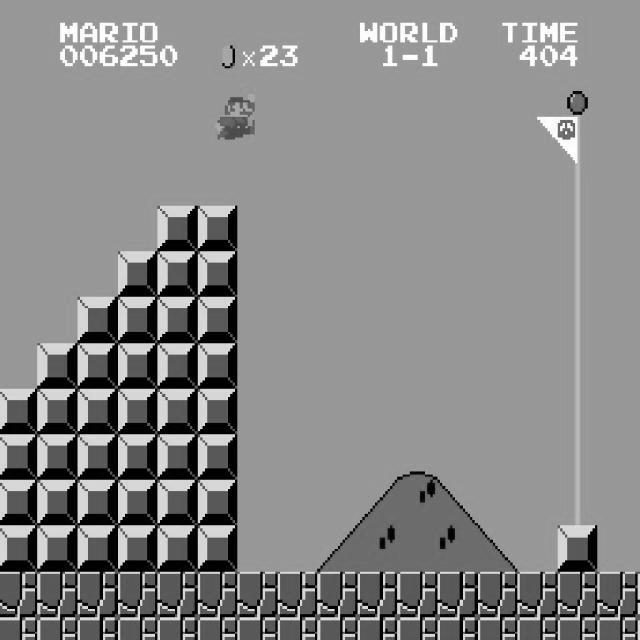11- little_mario: (212, 91, 255, 140)
17- undestructible_block: (37, 572, 78, 618), (77, 572, 118, 618), (117, 572, 158, 618), (157, 572, 198, 618), (197, 572, 238, 618), (237, 572, 278, 618), (277, 572, 318, 618), (317, 572, 358, 618), (357, 572, 398, 618), (397, 572, 438, 618), (437, 572, 478, 618), (477, 572, 518, 618), (517, 572, 558, 618), (557, 572, 598, 618), (597, 572, 638, 618), (0, 572, 37, 618), (37, 617, 78, 640), (77, 617, 118, 640), (117, 617, 158, 640), (157, 617, 198, 640), (197, 617, 238, 640), (237, 617, 278, 640), (277, 617, 318, 640), (317, 617, 358, 640), (357, 617, 398, 640), (397, 617, 438, 640), (437, 617, 478, 640), (477, 617, 518, 640), (517, 617, 558, 640), (557, 617, 598, 640), (597, 617, 638, 640), (0, 617, 37, 640), (637, 571, 640, 617), (637, 617, 640, 639)
7- goal_pole: (557, 68, 598, 114), (557, 114, 598, 160), (557, 160, 598, 206), (557, 252, 598, 298), (557, 297, 598, 343), (557, 388, 598, 434), (557, 434, 598, 480), (557, 480, 598, 526), (557, 206, 598, 251), (557, 343, 598, 388)
9- hard_block: (37, 388, 78, 434), (37, 434, 78, 480), (37, 480, 78, 526), (37, 526, 78, 572), (77, 297, 118, 343), (77, 388, 118, 434), (77, 434, 118, 480), (77, 480, 118, 526), (77, 526, 118, 572), (117, 252, 158, 298), (117, 297, 158, 343), (117, 388, 158, 434), (117, 434, 158, 480), (117, 480, 158, 526), (117, 526, 158, 572), (157, 252, 198, 298), (157, 297, 198, 343), (157, 388, 198, 434), (157, 434, 198, 480), (157, 480, 198, 526), (157, 526, 198, 572), (197, 252, 238, 298), (197, 297, 238, 343), (197, 388, 238, 434), (197, 434, 238, 480), (197, 480, 238, 526), (197, 526, 238, 572), (557, 526, 598, 572), (37, 343, 78, 388), (77, 343, 118, 388), (117, 343, 158, 388), (157, 206, 198, 251), (157, 343, 198, 388), (197, 206, 238, 251), (197, 343, 238, 388), (0, 388, 37, 434), (0, 434, 37, 480), (0, 480, 37, 526), (0, 526, 37, 572)
